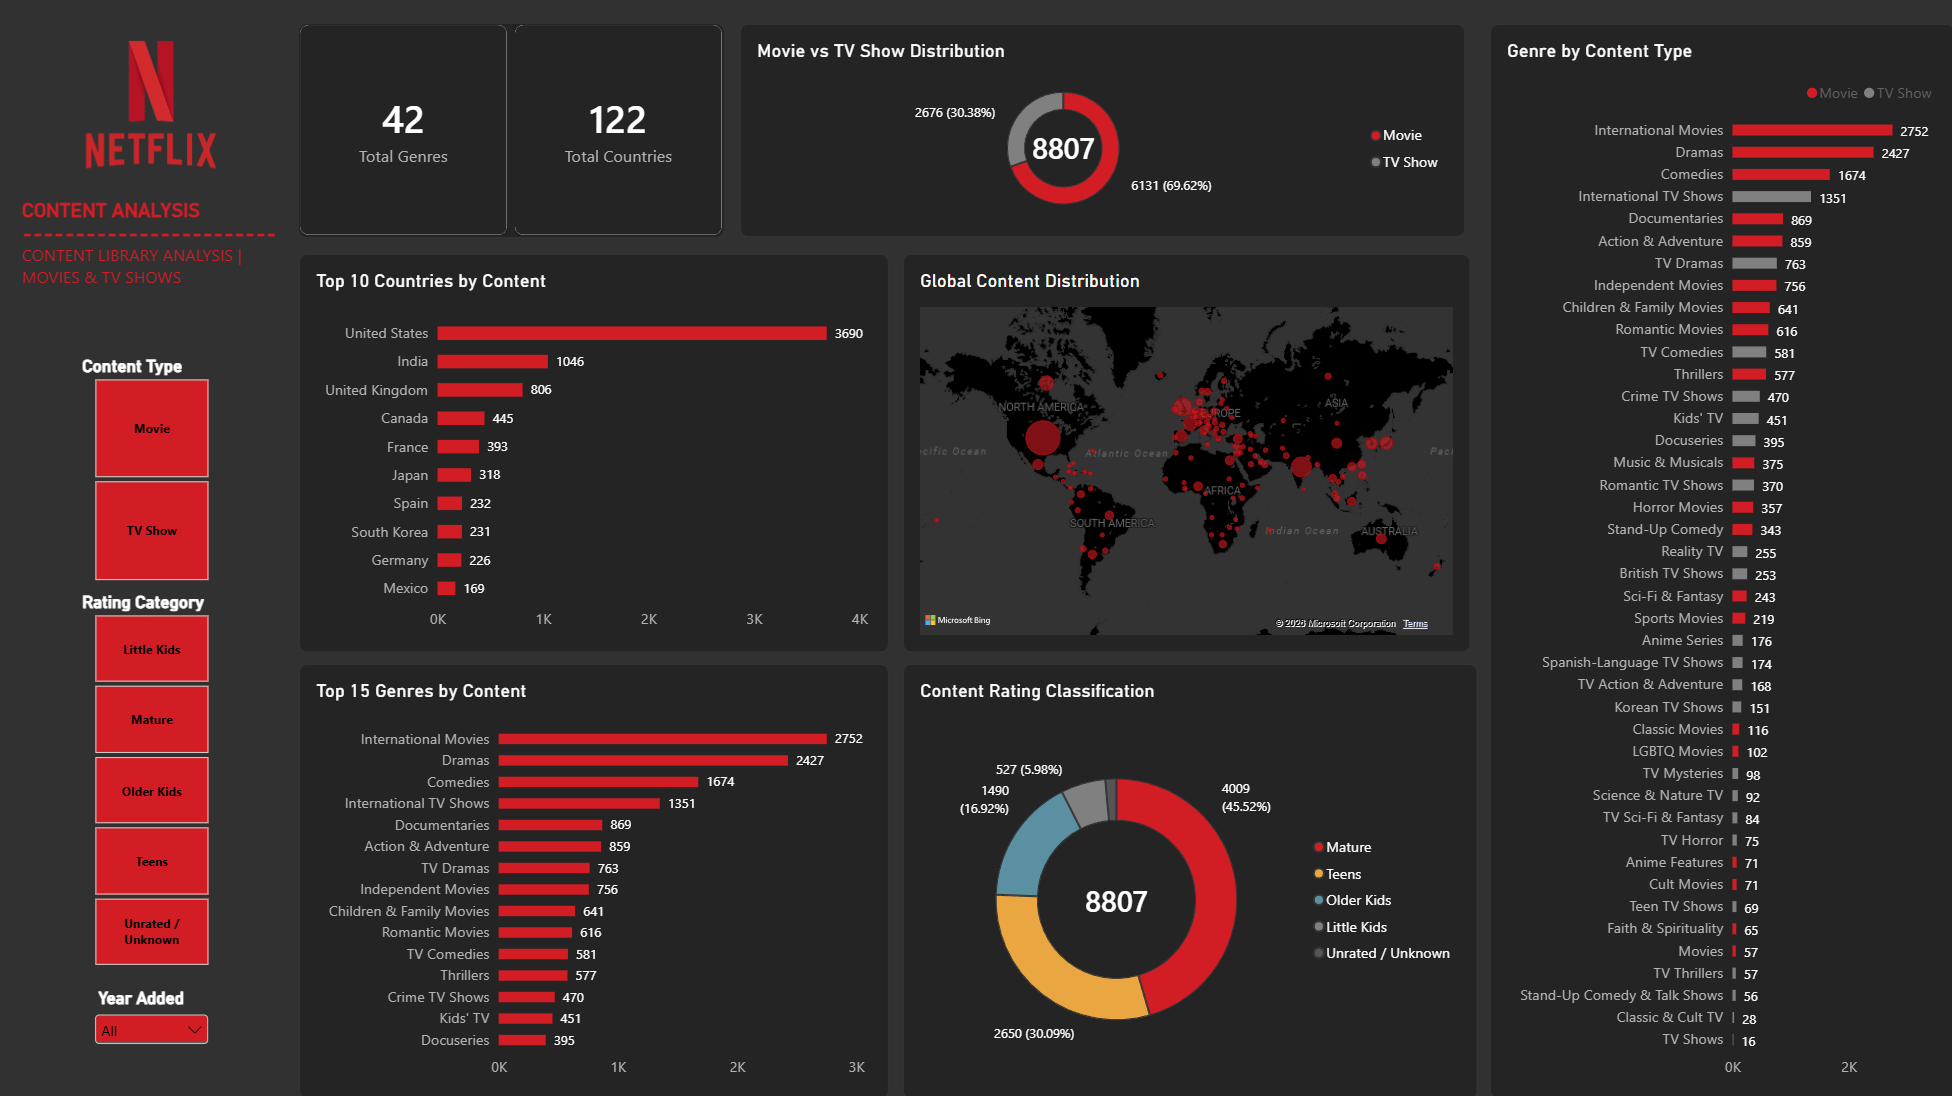

This screenshot's page, from the dashboard's own definition file:
{"tool":"powerbi","page":{"name":"02 - Content Analysis","canvas":[1920,1080],"ordinal":1},"visuals":[{"type":"cardVisual","fields":{"Data":["data_measures.Total Genres","data_measures.Total Countries"]},"box":[295.4,24.6,417.4,208.7],"z":0},{"type":"donutChart","title":"Movie vs TV Show Distribution","fields":{"Category":["netflix_main.type"],"Y":["data_measures.Total Titles"]},"box":[728.8,24.6,711.7,208.7],"z":1000},{"type":"clusteredBarChart","title":"Top 15 Genres by Content","fields":{"Category":["netflix_genre.listed_in"],"Y":["data_measures.Total Titles by Genre"]},"box":[295.4,652.8,579,427],"z":2000},{"type":"clusteredBarChart","title":"Top 10 Countries by Content","fields":{"Category":["netflix_country.country"],"Y":["data_measures.Total Titles by Country"]},"box":[295.4,250.4,579,390.6],"z":3000},{"type":"barChart","title":"Genre by Content Type","fields":{"Category":["netflix_genre.listed_in"],"Series":["netflix_main.type"],"Y":["data_measures.Total Titles by Genre"]},"box":[1464.1,24.6,455.9,1055.3],"z":4000},{"type":"map","title":"Global Content Distribution","fields":{"Category":["netflix_country.country"],"Size":["data_measures.Total Titles by Country"]},"box":[888.3,250.4,556.5,390.6],"z":5000},{"type":"donutChart","title":"Content Rating Classification","fields":{"Category":["netflix_main.Rating Category"],"Y":["data_measures.Total Titles by Rating Category"]},"box":[888.3,652.8,564,427],"z":6000},{"type":"slicer","fields":{"Values":["netflix_main.type"]},"box":[74.9,350,150.9,221.5],"z":7000},{"type":"slicer","fields":{"Values":["DimDate.Year"]},"box":[89.9,970.7,120.9,97.4],"z":8000},{"type":"image","box":[34.2,11.8,232.2,184.1],"z":9000},{"type":"slicer","fields":{"Values":["netflix_main.Rating Category"]},"box":[74.9,582.2,150.9,368.2],"z":10000},{"type":"textbox","box":[23.5,195.9,253.6,142.3],"z":10001}]}

Visuals, with their boxes in screenshot pixels (x1, y1, x2, y2), scaled from the page's 1920x1080 canvas onto the 1952x1096 screenshot:
cardVisual - data_measures.Total Genres x data_measures.Total Countries: select_region(300, 25, 725, 237)
"Movie vs TV Show Distribution" donutChart: select_region(741, 25, 1465, 237)
"Top 15 Genres by Content" clusteredBarChart: select_region(300, 662, 889, 1095)
"Top 10 Countries by Content" clusteredBarChart: select_region(300, 254, 889, 650)
"Genre by Content Type" barChart: select_region(1489, 25, 1951, 1095)
"Global Content Distribution" map: select_region(903, 254, 1469, 650)
"Content Rating Classification" donutChart: select_region(903, 662, 1477, 1095)
slicer - netflix_main.type: select_region(76, 355, 230, 580)
slicer - DimDate.Year: select_region(91, 985, 214, 1084)
image: select_region(35, 12, 271, 199)
slicer - netflix_main.Rating Category: select_region(76, 591, 230, 964)
textbox: select_region(24, 199, 282, 343)
